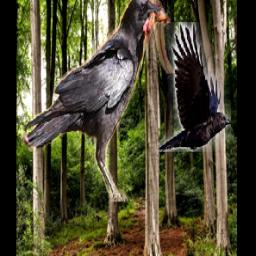Crow: (22, 0, 179, 203), (159, 22, 231, 152)
